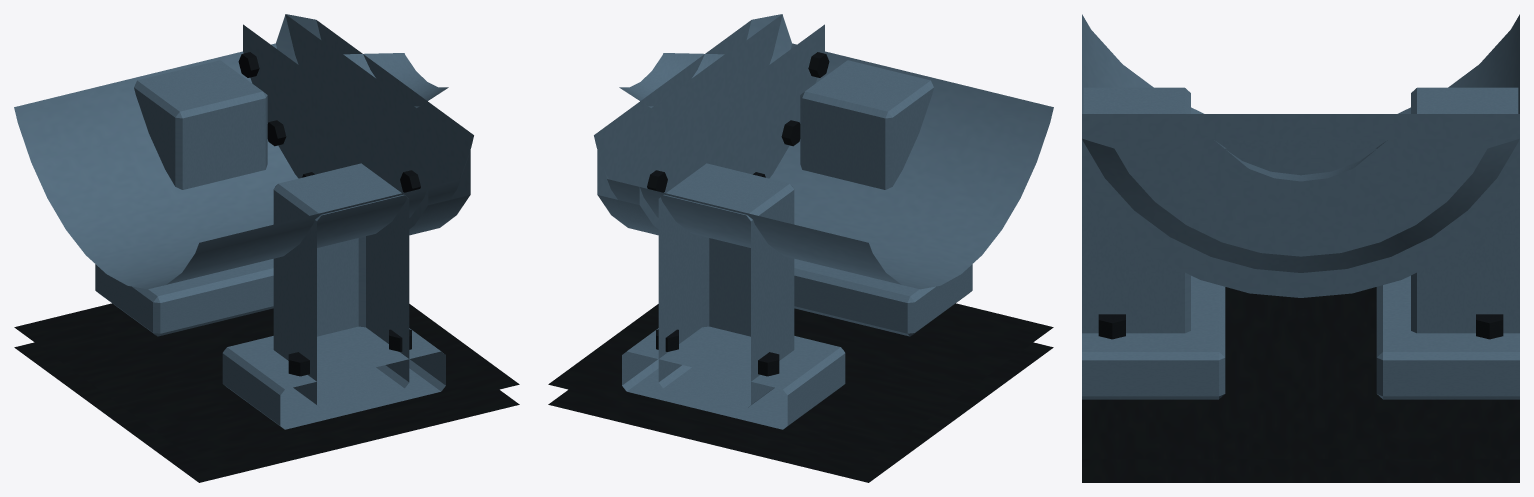
File: cell_9.obj
3 renders of one model, left to right at view 1: azimuth 30°, elevation 25°; view 2: azimuth 150°, elevation 25°; view 3: azimuth 270°, elevation 25°, orthographic. The views are drawn at different scales.
Parts seen in each view (by area): view 1: cell_9; view 2: cell_9; view 3: cell_9.
Part boxes in pixels (x1,y1,x2,y2): cell_9: (14, 14, 519, 482); cell_9: (548, 14, 1053, 482); cell_9: (1082, 14, 1519, 482).
Bounding box in the file's own units: 1 × 0.796 × 1.
